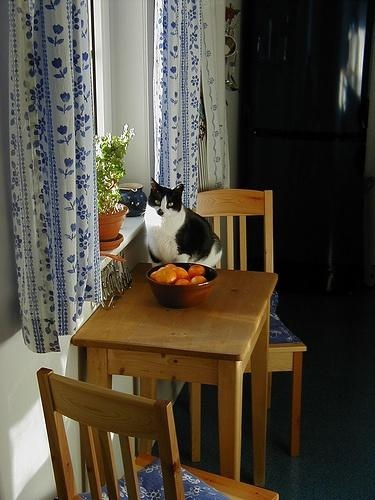cat: (143, 177, 225, 270)
chair: (36, 367, 280, 500), (188, 182, 303, 464)
pottedplant: (95, 129, 136, 249)
